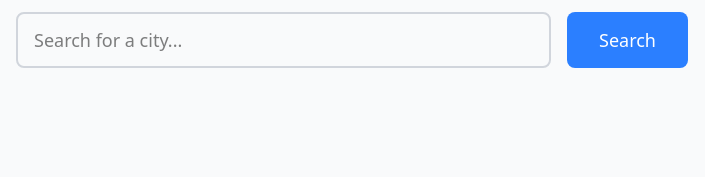
Test case: SearchBar › selects suggestion on click
The image size is (705, 177).
Step 1. Type "Vi" into the field with placeholder "Search for a city..." → coordinates (284, 40), box [16,12,551,68]
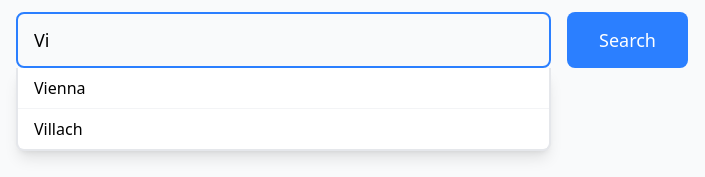
Expected: the text "Vienna" is shown
Step 2. Click the text "Vienna" → coordinates (284, 88), box [18,68,549,109]
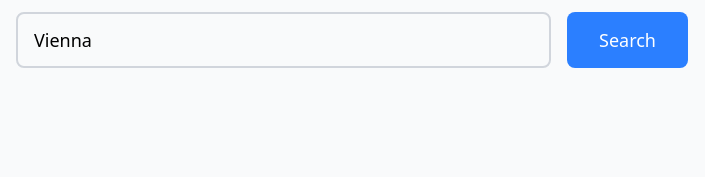
Expected: the field with placeholder "Search for a city..." holds "Vienna", [16,12,551,68]
